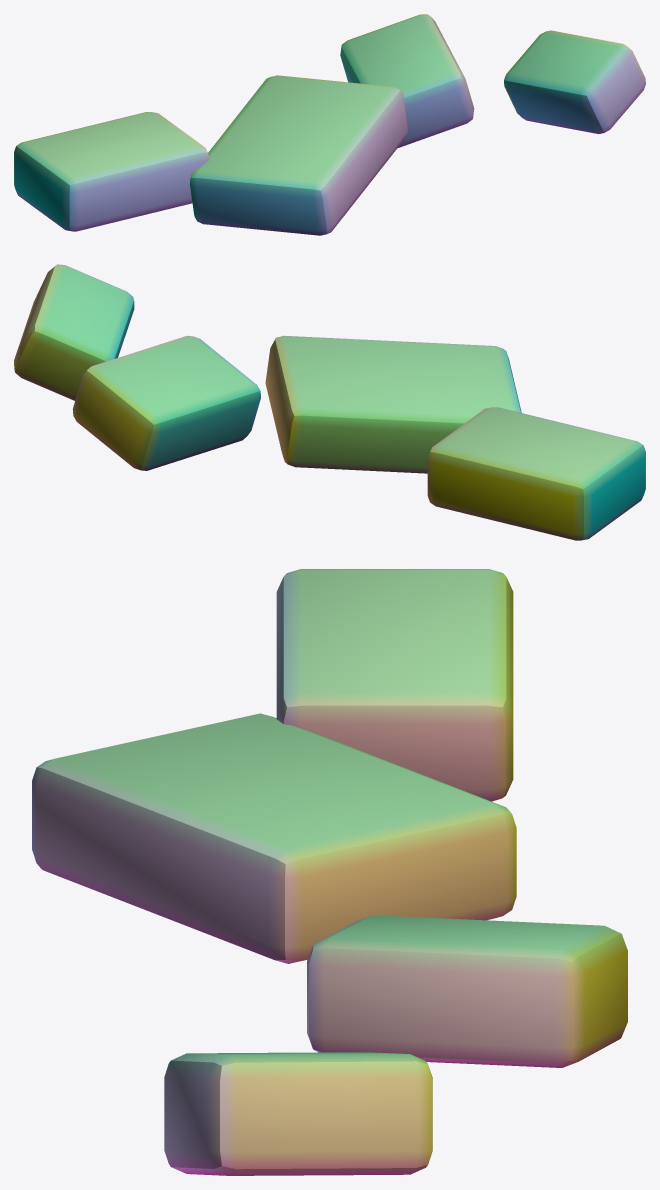
Rendered from vase_smashed.glb.
3 views of the same model, one above another, from view 1: azimuth 30°, elevation 25°; view 2: azimuth 150°, elevation 25°; view 3: azimuth 270°, elevation 25° (orthographic). The views are drawn at different scales.
Parts seen in each view (by area): view 1: parlour_vase_smashed; view 2: parlour_vase_smashed; view 3: parlour_vase_smashed.
Boxes of the visible parts, x1,y1,x2,y2 form: parlour_vase_smashed: (14, 14, 645, 235); parlour_vase_smashed: (14, 264, 645, 540); parlour_vase_smashed: (32, 569, 627, 1175).
Size of the model in its own units: 0.5397 by 0.0763 by 0.2469.
